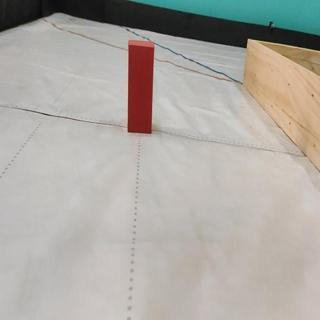redbox: (127, 39, 154, 134)
